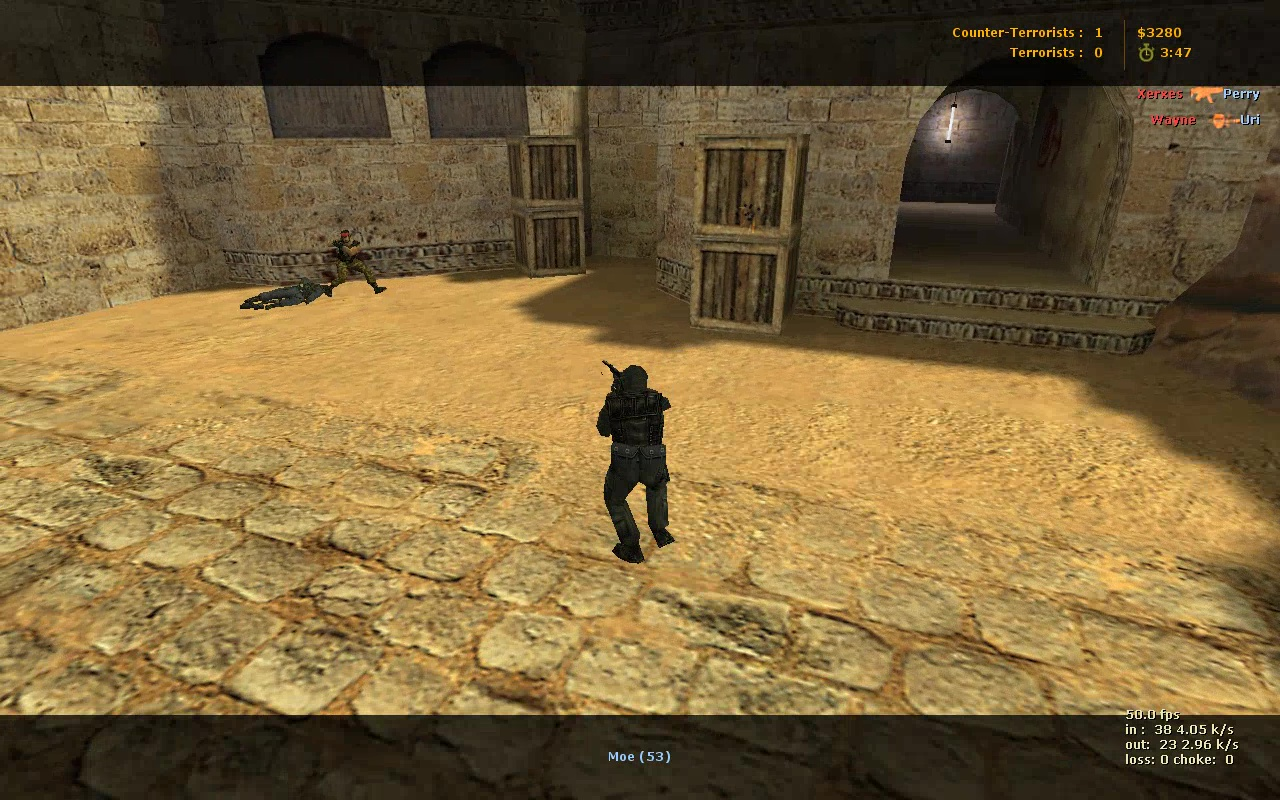ct: (595, 364, 684, 572)
dead: (245, 284, 324, 307)
terr1: (327, 233, 391, 301)
